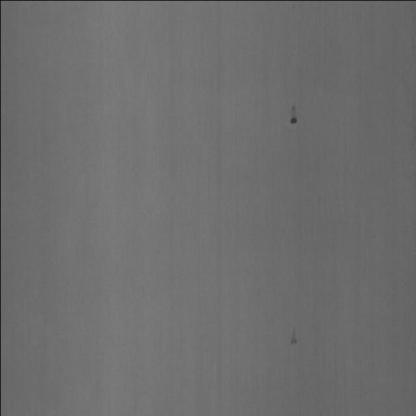inclusion: (289, 102, 297, 126), (289, 327, 297, 348)
